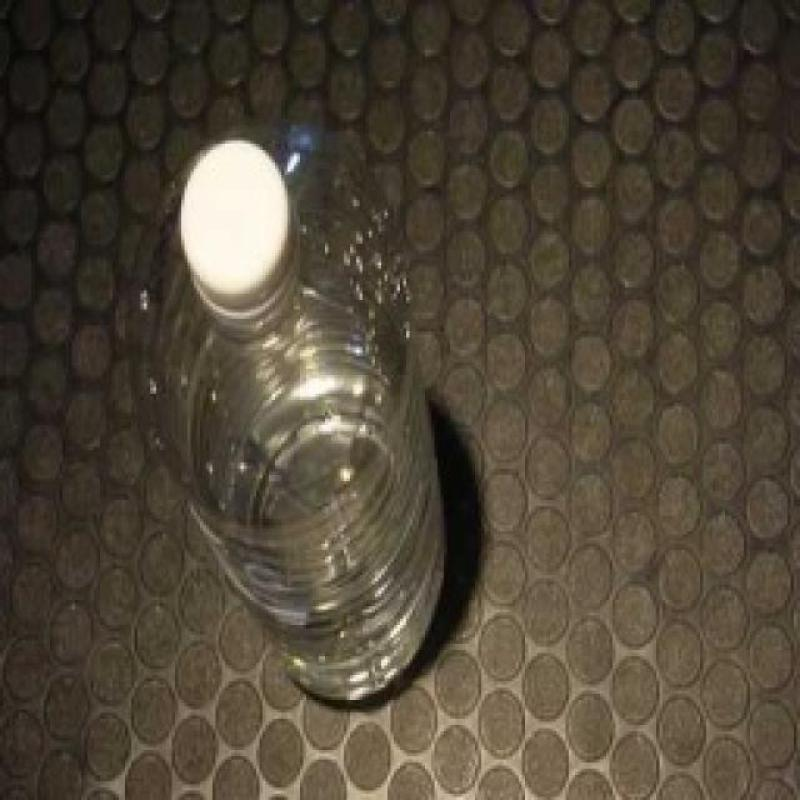botella: (144, 130, 450, 705)
